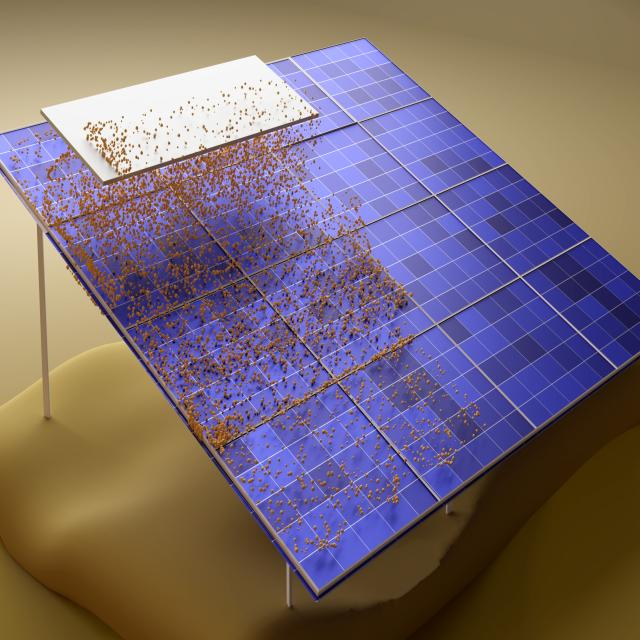dust-solar-panel: (1, 39, 640, 598)
